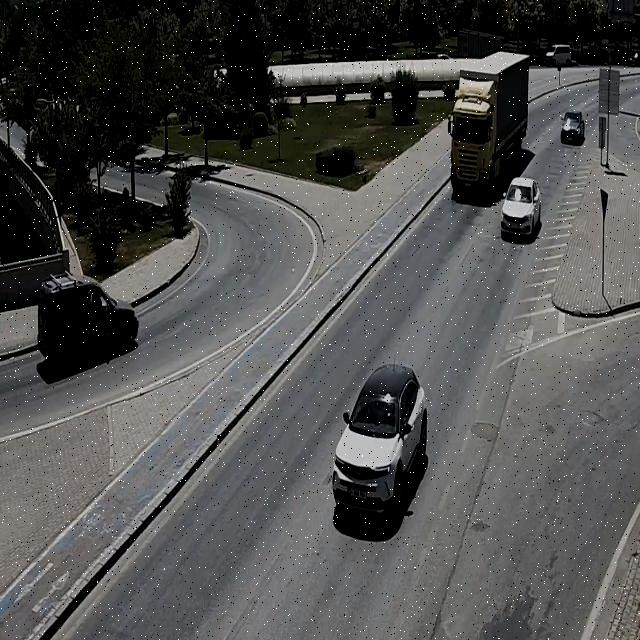car: (332, 354, 427, 537), (38, 262, 144, 379), (496, 172, 547, 246)
